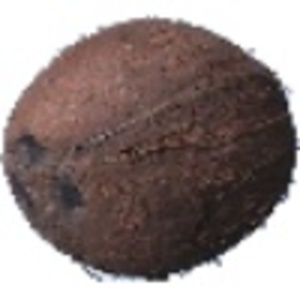coco: (3, 18, 300, 283)
